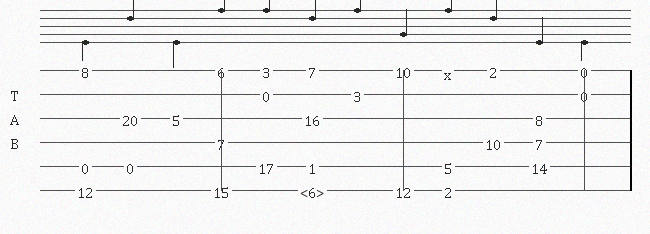0: (81, 159, 93, 173), (126, 159, 138, 173), (262, 87, 274, 101), (580, 87, 592, 101), (580, 63, 592, 77)
1: (308, 159, 320, 173)
10: (395, 63, 415, 77), (485, 135, 505, 149)
12: (77, 183, 97, 197), (395, 183, 415, 197)
14: (531, 159, 551, 173)
15: (213, 183, 233, 198)
16: (304, 111, 324, 125)
17: (258, 159, 278, 173)
2: (444, 183, 456, 197), (489, 63, 501, 77)
20: (122, 111, 142, 125)
3: (262, 63, 274, 77), (353, 87, 365, 101)
5: (172, 111, 184, 126), (444, 159, 456, 174)
6: (217, 63, 229, 77)
7: (217, 135, 229, 149), (308, 63, 320, 77), (535, 135, 547, 149)
8: (81, 63, 93, 77), (535, 111, 547, 125)
harmonic: (300, 183, 328, 197)
x: (444, 65, 455, 76)
